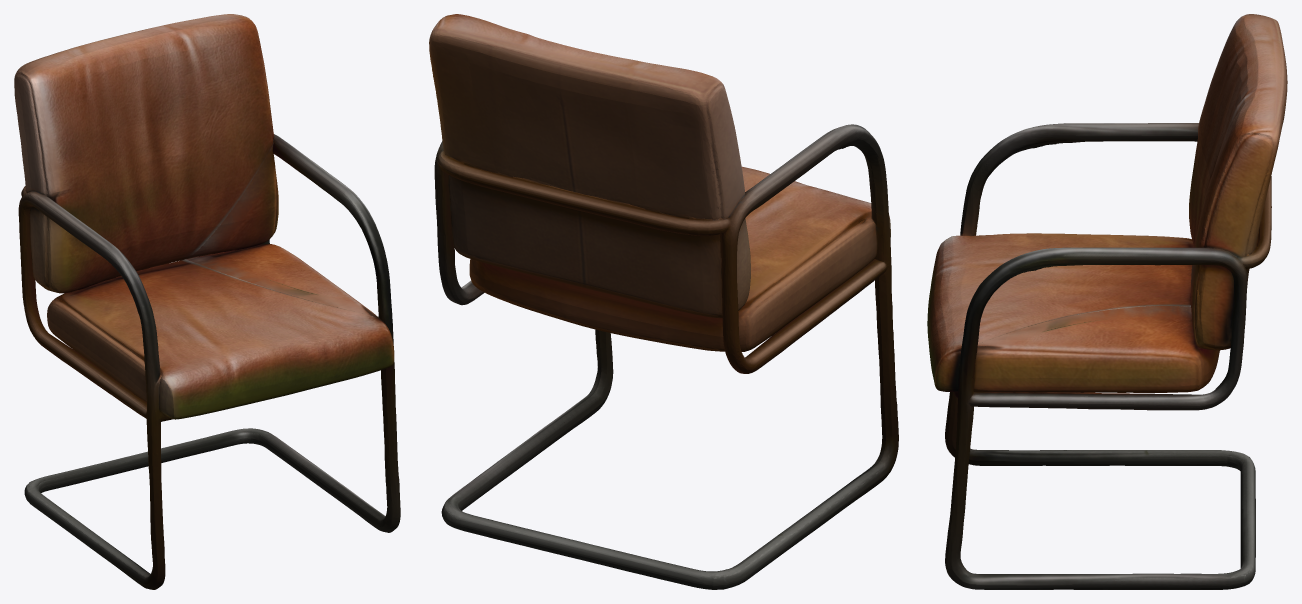
File: guest_chair_2.glb
The picture shows the model from 3 angles, left to right: view 1: azimuth 30°, elevation 25°; view 2: azimuth 150°, elevation 25°; view 3: azimuth 270°, elevation 25°; orthographic projection. The views are drawn at different scales.
Visible parts, largest first — view 1: geometry_0; view 2: geometry_0; view 3: geometry_0.
Boxes of the visible parts, <box> form: geometry_0: <box>14,14,400,589</box>; geometry_0: <box>429,14,898,589</box>; geometry_0: <box>927,14,1287,589</box>.
Bounding box in the file's own units: 0.6103 × 0.9939 × 0.7061.
1 material, 1 textured.
